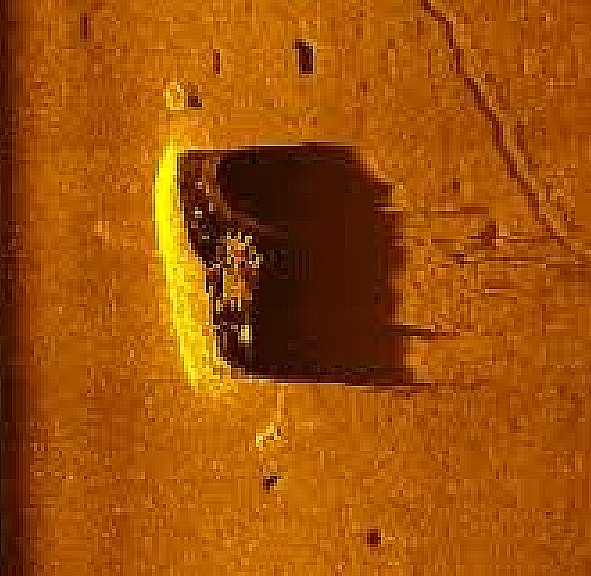ship: (150, 136, 264, 399)
